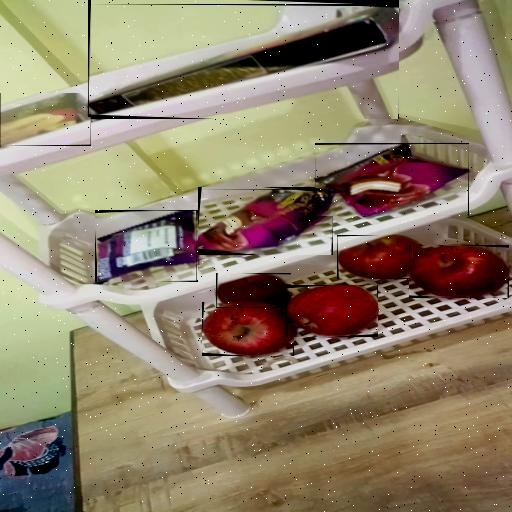Apple: (409, 246, 509, 297), (202, 302, 294, 356), (286, 285, 377, 337), (337, 235, 422, 279), (217, 274, 291, 308)
Choco Fills: (89, 7, 399, 114), (0, 93, 91, 146)
Choco Pie: (315, 144, 468, 216), (198, 190, 333, 252), (97, 211, 197, 282)
